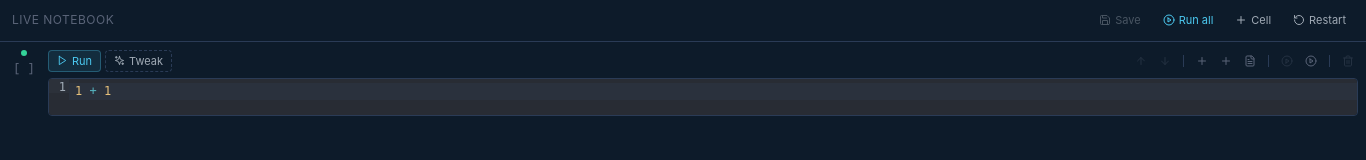
Scenario: LivePanel › finalizes the cell from the HTTP response when no WS cell_complete arrives
Click the button with aria-label "Run cell" at (75, 61), box [48,50,101,72]
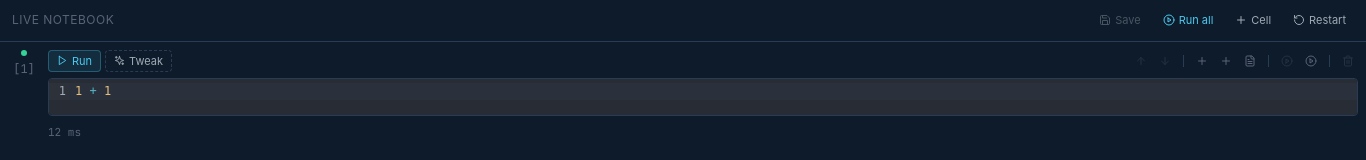
expect the text "[1]" is shown: met, box [13,60,35,78]
